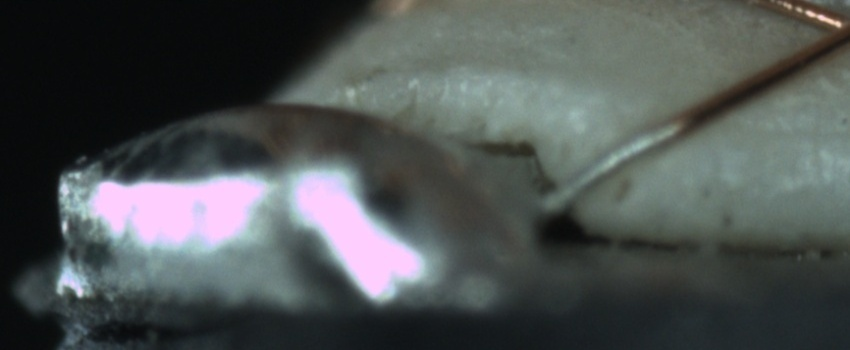CL: (797, 0, 850, 65)
DL: (689, 105, 849, 169)
TS: (543, 127, 681, 214)
